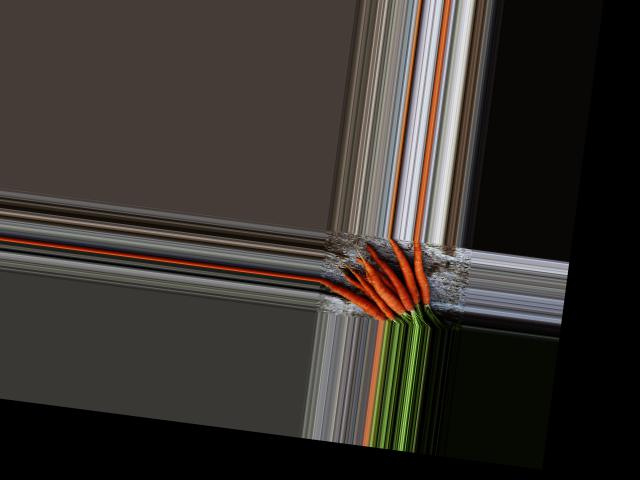carrot: (316, 276, 395, 321)
